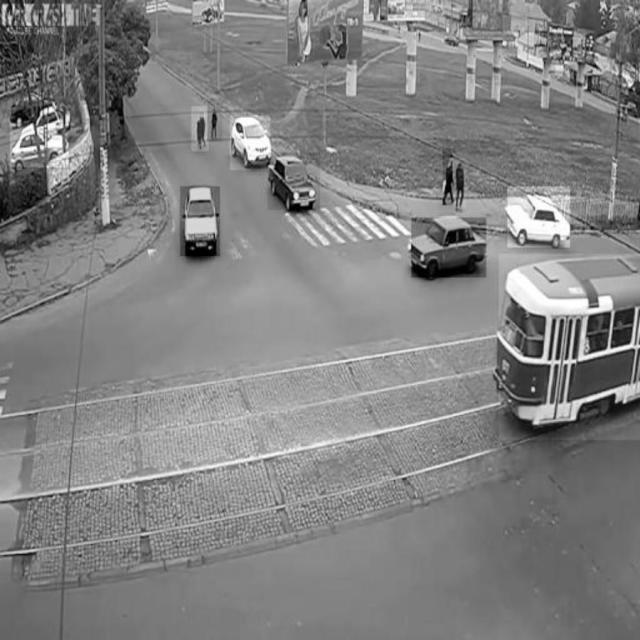person: (453, 153, 467, 208), (192, 106, 209, 151), (443, 149, 455, 205), (208, 104, 223, 141)
vehicle: (499, 254, 640, 440), (411, 218, 485, 278), (507, 187, 571, 248), (268, 152, 320, 210), (181, 186, 221, 256), (10, 124, 68, 168), (230, 114, 271, 170)
